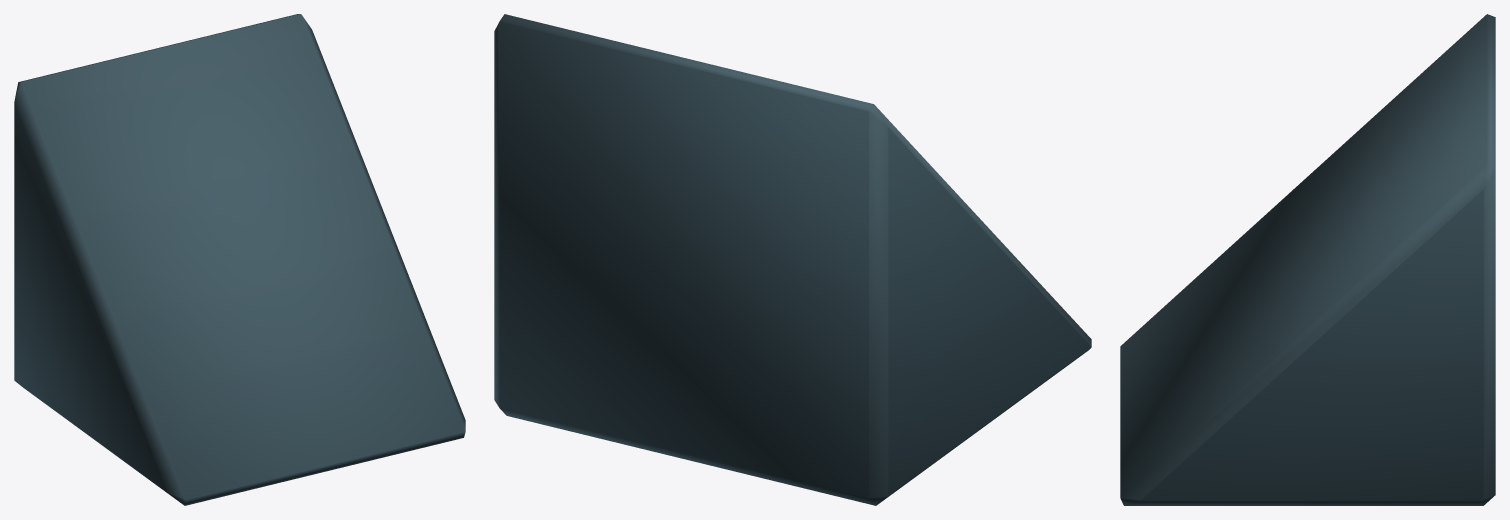
Rendered from ramp_straight_hue_3.fbx.
3 renders of one model, left to right at view 1: azimuth 30°, elevation 25°; view 2: azimuth 150°, elevation 25°; view 3: azimuth 270°, elevation 25°, orthographic. The views are drawn at different scales.
Visible parts, largest first — view 1: ramp_straight_hue_3; view 2: ramp_straight_hue_3; view 3: ramp_straight_hue_3.
Part boxes in pixels (x1,y1,x2,y2): ramp_straight_hue_3: (14, 14, 465, 505); ramp_straight_hue_3: (494, 14, 1091, 505); ramp_straight_hue_3: (1120, 14, 1495, 505).
Bounding box in the file's own units: 100 × 97.79 × 97.79.
